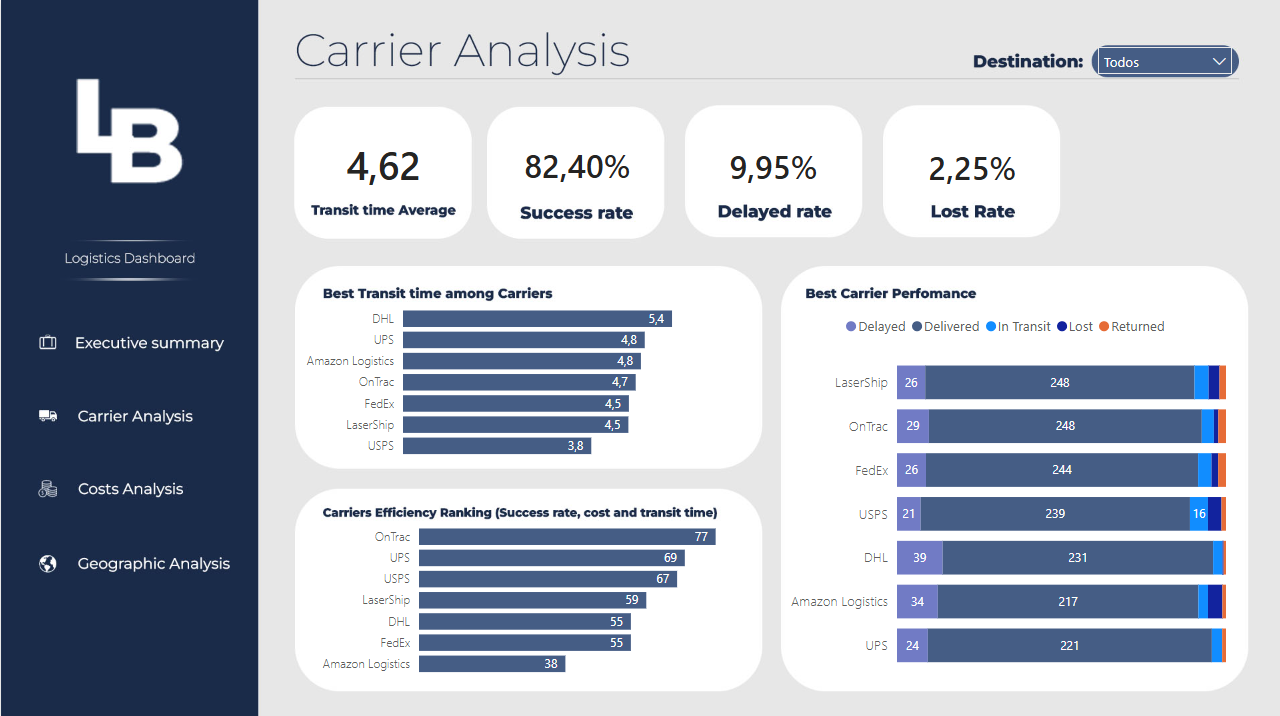

This screenshot's page, from the dashboard's own definition file:
{"tool":"powerbi","page":{"name":"Carrier Analysis","canvas":[1280,720],"ordinal":1},"visuals":[{"type":"barChart","fields":{"Category":["logistics_shipments_dataset.Carrier"],"Y":["Avg(logistics_shipments_dataset.Transit_Time)"]},"box":[299,289,467,179],"z":0},{"type":"cardVisual","fields":{"Data":["Avg(logistics_shipments_dataset.Transit_Time)"]},"box":[299,102,167,122],"z":1000},{"type":"cardVisual","fields":{"Data":["logistics_shipments_dataset.Delivered_Rate"]},"box":[493,88,167,150],"z":2000},{"type":"hundredPercentStackedBarChart","fields":{"Category":["logistics_shipments_dataset.Carrier"],"Series":["logistics_shipments_dataset.Status"],"Y":["CountNonNull(logistics_shipments_dataset.Shipment_ID)"]},"box":[783,306,447,380],"z":3000},{"type":"cardVisual","fields":{"Data":["logistics_shipments_dataset.Delayed_Rate"]},"box":[688,89,169,150],"z":4000},{"type":"cardVisual","fields":{"Data":["logistics_shipments_dataset.Lost_Rate"]},"box":[888,91,167,148],"z":5000},{"type":"barChart","fields":{"Category":["logistics_shipments_dataset.Carrier"],"Y":["logistics_shipments_dataset.Score_Carriers"]},"box":[315,507,425,179],"z":6000},{"type":"pageNavigator","box":[21,317,218,50],"z":7000},{"type":"pageNavigator","box":[21,462,218,50],"z":8000},{"type":"pageNavigator","box":[24,540,218,50],"z":9000},{"type":"slicer","fields":{"Values":["logistics_shipments_dataset.Destination"]},"box":[1087,37,154,90],"z":10000}]}

Visuals, with their boxes in screenshot pixels (x1, y1, x2, y2), scaled from the page's 1280x720 canvas onto the 1280x716 screenshot:
barChart - logistics_shipments_dataset.Carrier x Avg(logistics_shipments_dataset.Transit_Time): box(299, 287, 766, 465)
cardVisual - Avg(logistics_shipments_dataset.Transit_Time): box(299, 101, 466, 223)
cardVisual - logistics_shipments_dataset.Delivered_Rate: box(493, 88, 660, 237)
hundredPercentStackedBarChart - logistics_shipments_dataset.Carrier x logistics_shipments_dataset.Status: box(783, 304, 1230, 682)
cardVisual - logistics_shipments_dataset.Delayed_Rate: box(688, 89, 857, 238)
cardVisual - logistics_shipments_dataset.Lost_Rate: box(888, 90, 1055, 238)
barChart - logistics_shipments_dataset.Carrier x logistics_shipments_dataset.Score_Carriers: box(315, 504, 740, 682)
pageNavigator: box(21, 315, 239, 365)
pageNavigator: box(21, 459, 239, 509)
pageNavigator: box(24, 537, 242, 587)
slicer - logistics_shipments_dataset.Destination: box(1087, 37, 1241, 126)
